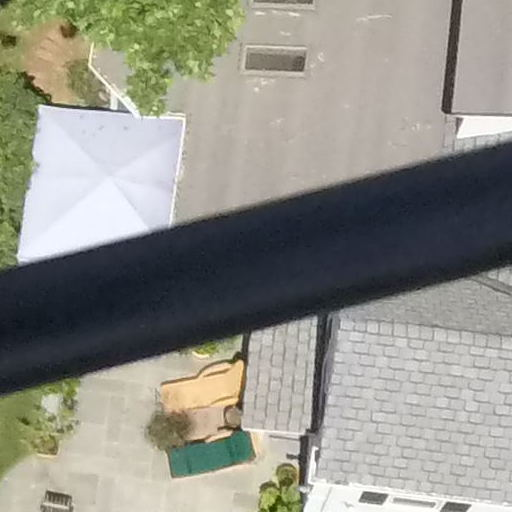flower pot: (24, 429, 67, 461), (273, 464, 299, 487)
